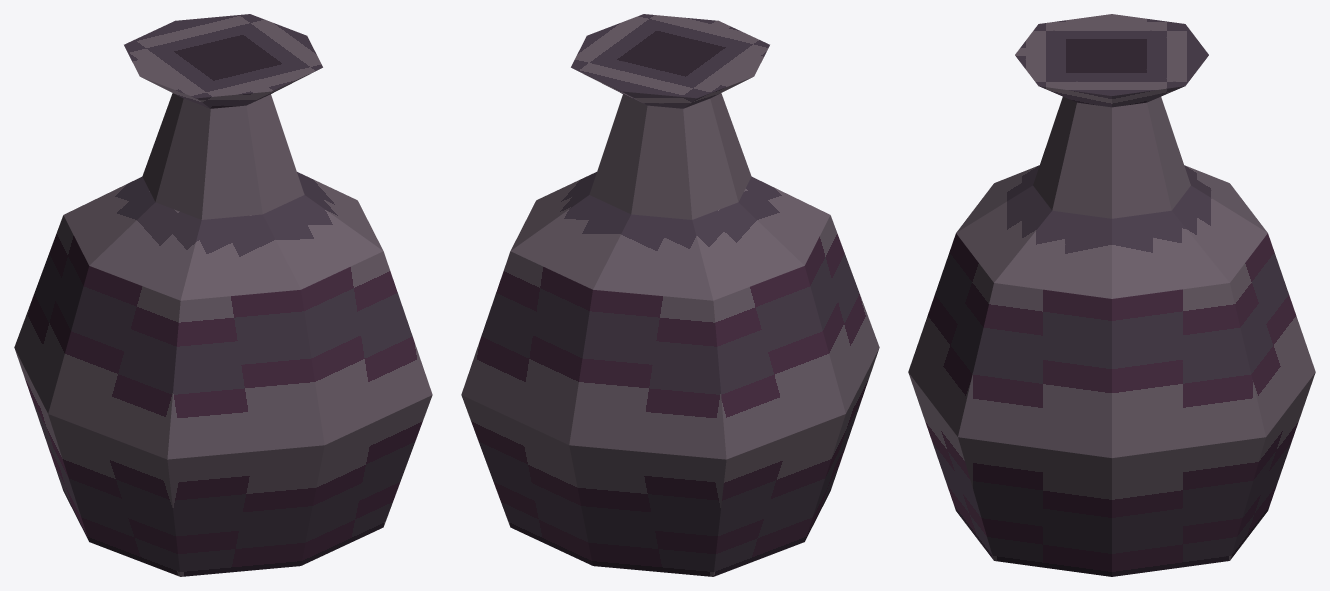
Rendered from vase.glb.
3 views of the same model, side by side, from view 1: azimuth 30°, elevation 25°; view 2: azimuth 150°, elevation 25°; view 3: azimuth 270°, elevation 25° (orthographic).
Visible parts, largest first — view 1: Cube.003; view 2: Cube.003; view 3: Cube.003.
Boxes of the visible parts, bbox=[...] form: Cube.003: bbox=[14, 14, 432, 576]; Cube.003: bbox=[461, 14, 879, 576]; Cube.003: bbox=[908, 14, 1315, 576].
Bounding box in the file's own units: 1.74 × 2.14 × 1.74.
Materials: 1 (1 with a texture image).
